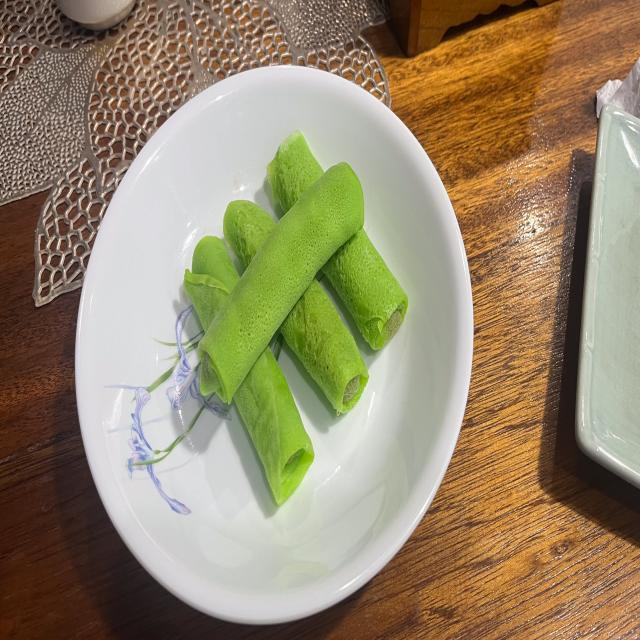Kuih-Ketayap: (199, 162, 364, 402), (234, 347, 314, 504), (280, 280, 369, 413), (322, 229, 408, 349), (184, 236, 239, 331), (266, 131, 322, 211), (224, 200, 275, 267)
